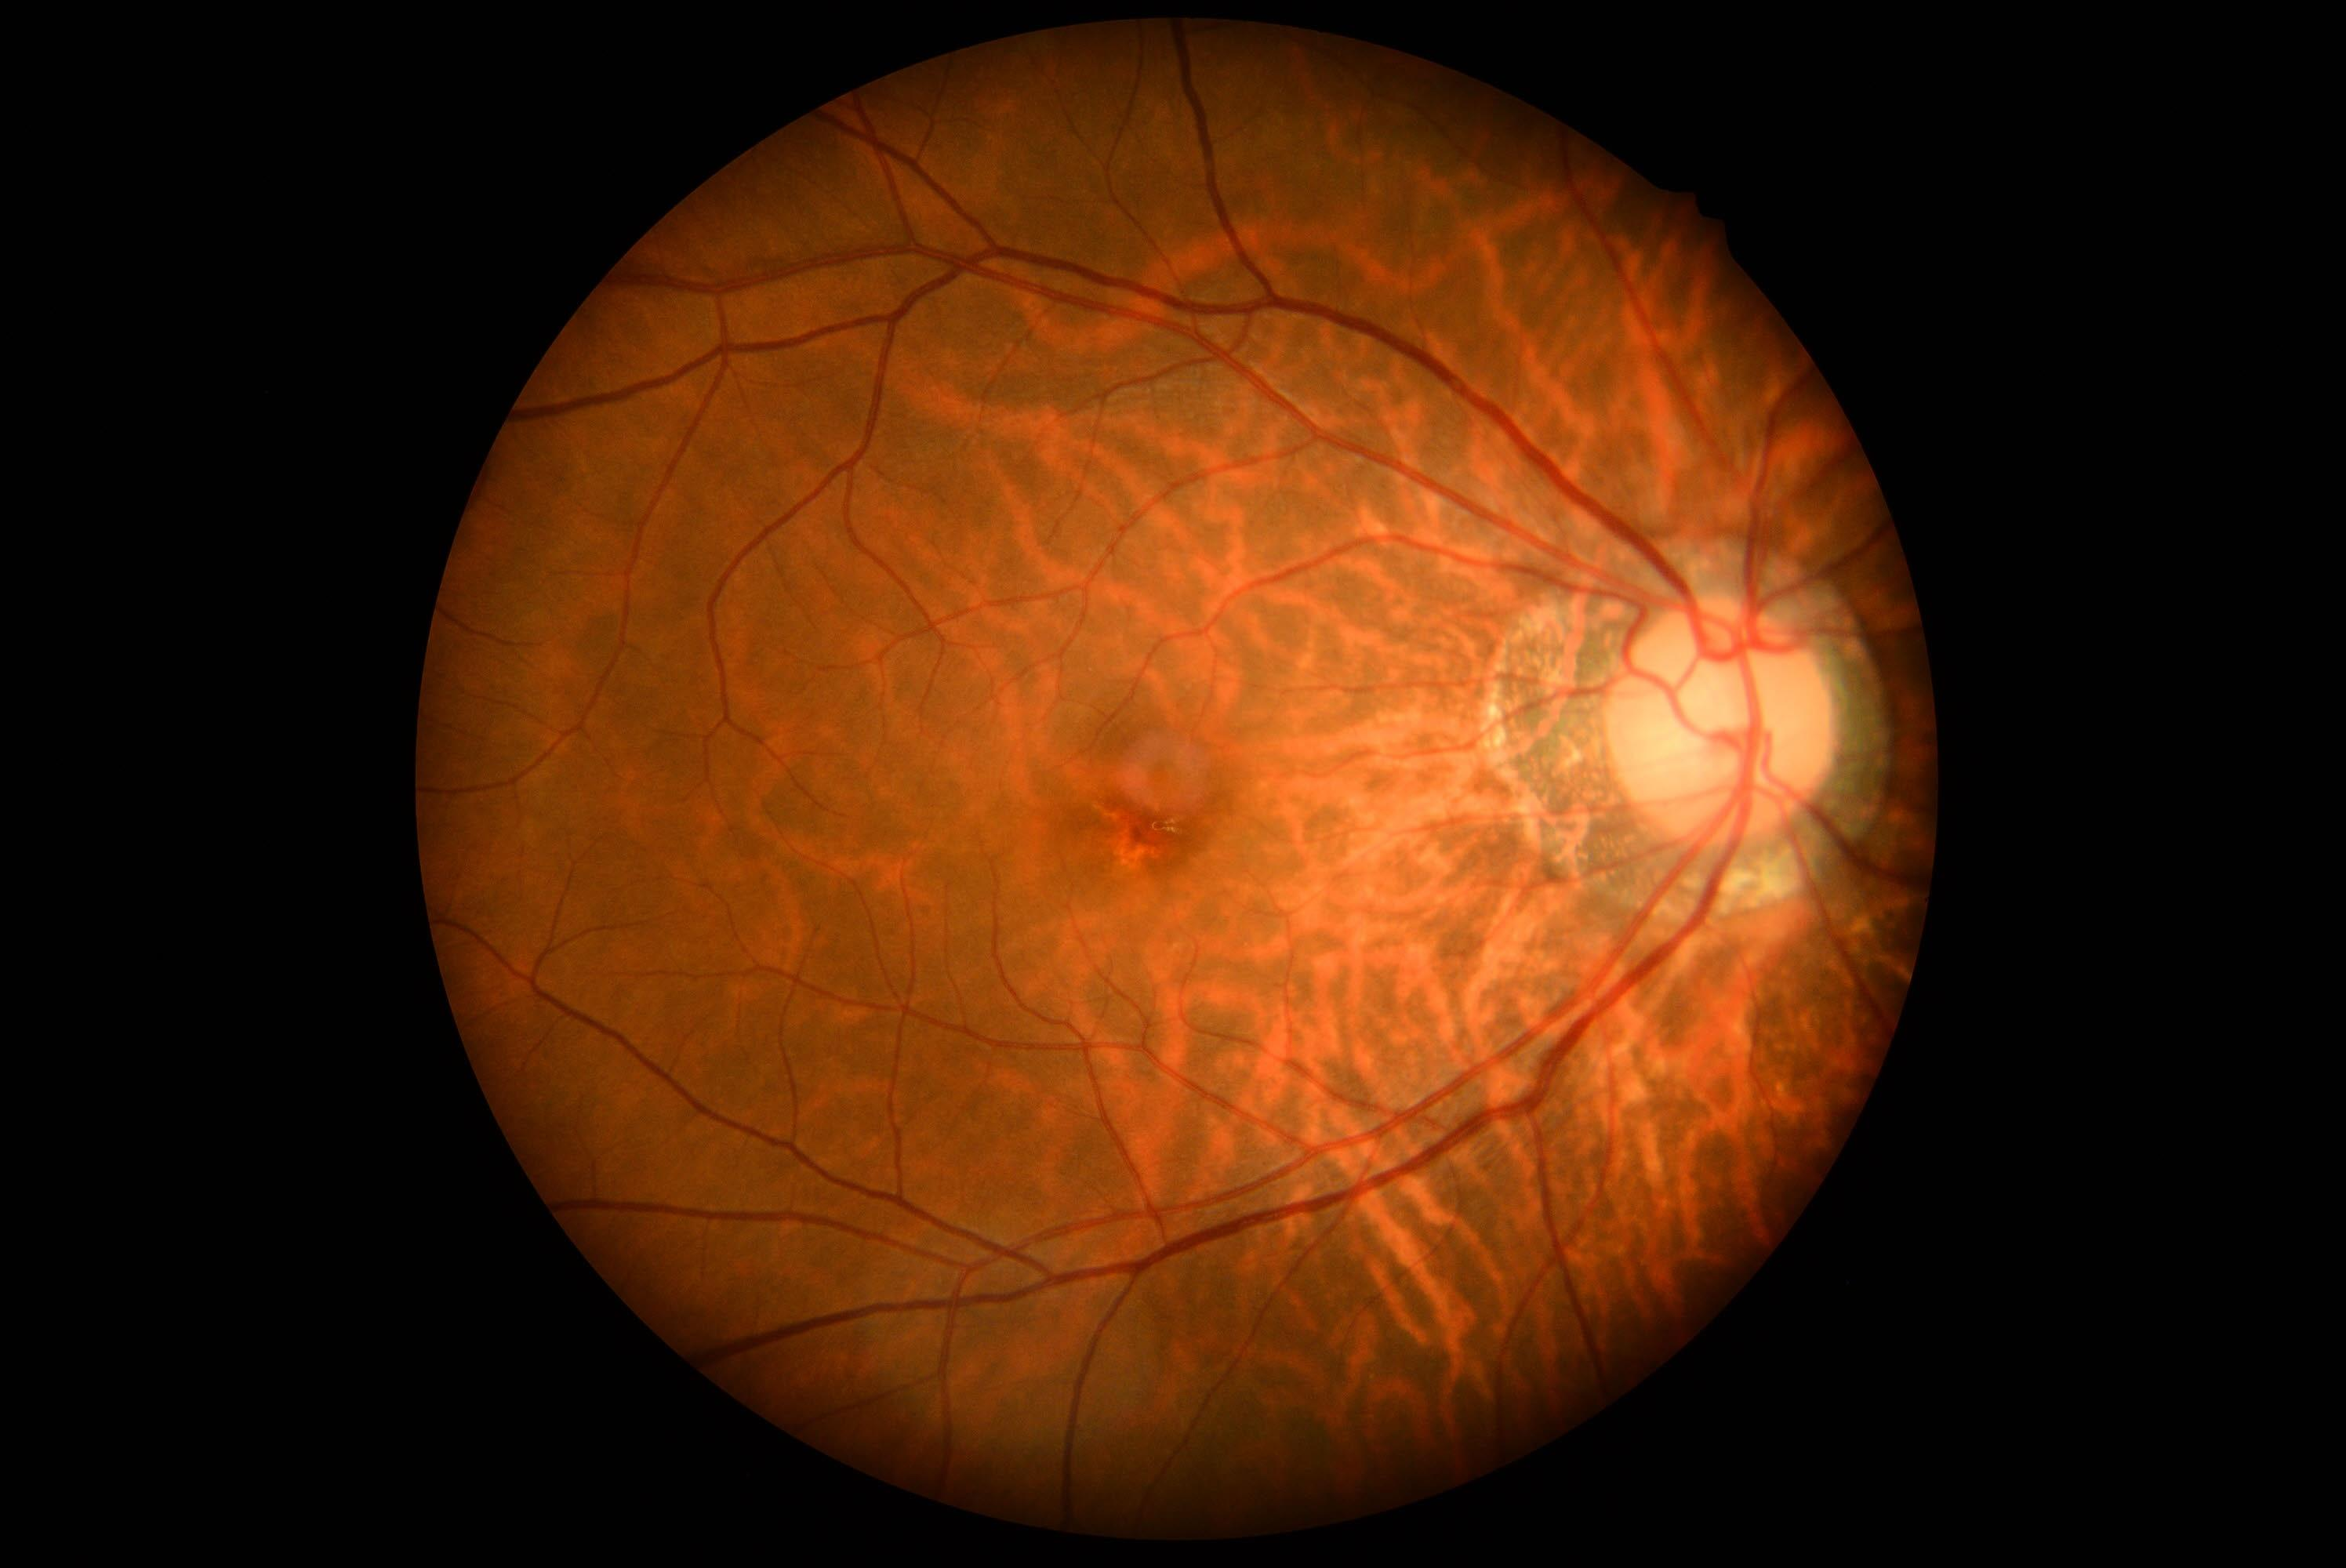Fovea: (1058, 749, 1221, 906)
